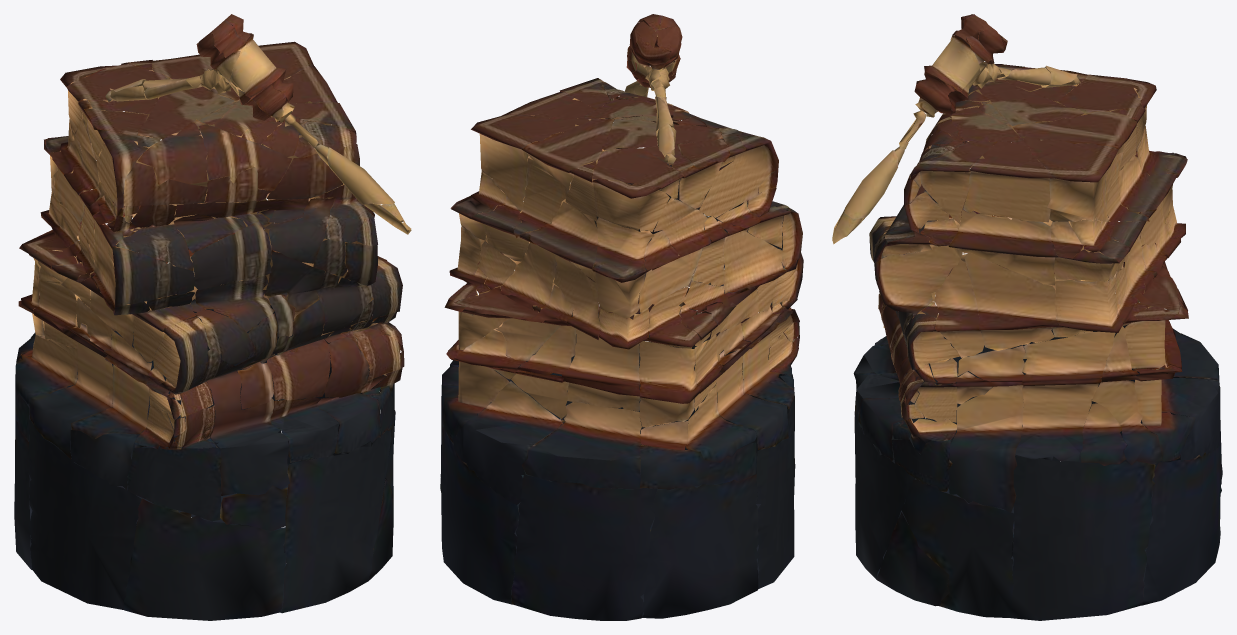
Rendered from co_books_p.glb.
The picture shows the model from 3 angles, left to right: view 1: azimuth 30°, elevation 25°; view 2: azimuth 150°, elevation 25°; view 3: azimuth 270°, elevation 25°; orthographic projection. The views are drawn at different scales.
Visible parts, largest first — view 1: Mesh_0; view 2: Mesh_0; view 3: Mesh_0.
Part boxes in pixels (left/top/right/bottom): Mesh_0: left=14, top=14, right=411, bottom=620; Mesh_0: left=440, top=14, right=803, bottom=620; Mesh_0: left=832, top=14, right=1222, bottom=620.
Size of the model in its own units: 1.21 by 1.9 by 1.28.
1 material, 1 textured.
